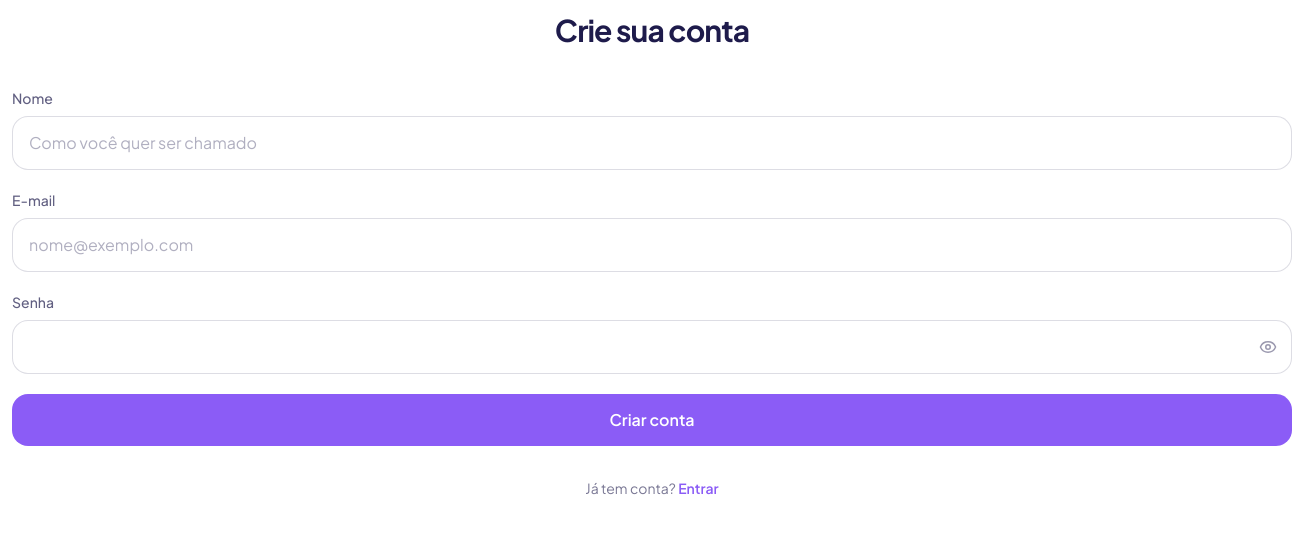
Test: tela de cadastro › bloqueia o envio enquanto a senha for curta demais
This screenshot has width=1304, height=540.
Type "curta" into the password field labelled "Senha" at (652, 347), box [12,320,1292,374]
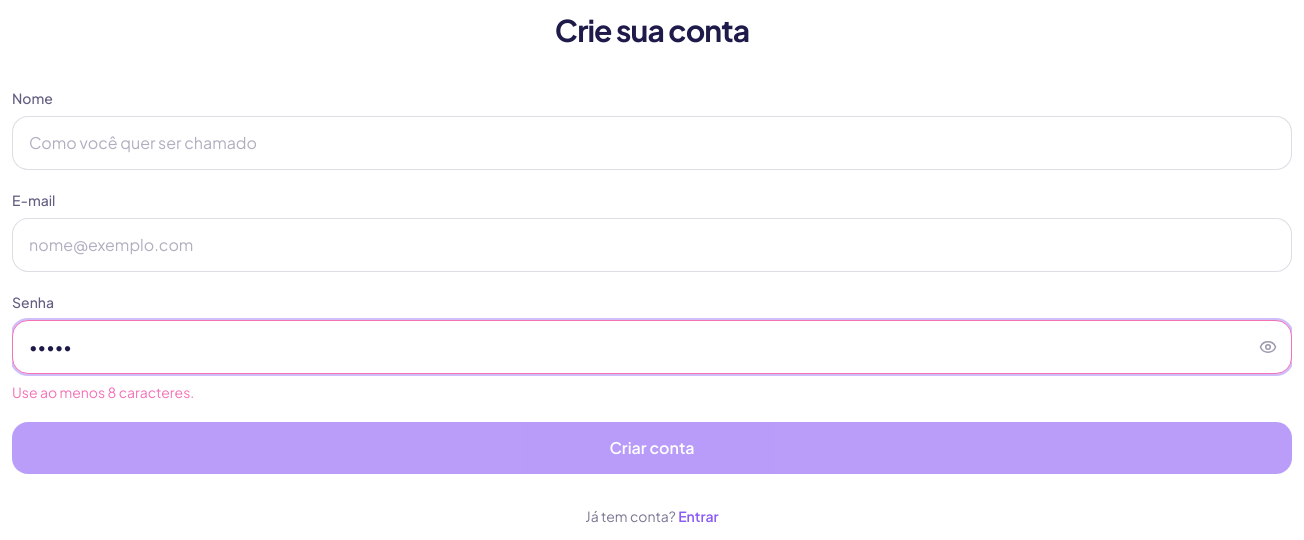
Check: the message shows "ao menos 8 caracteres", box [12,383,194,401]
Check: the button "Criar conta" is disabled, box [12,422,1292,474]
